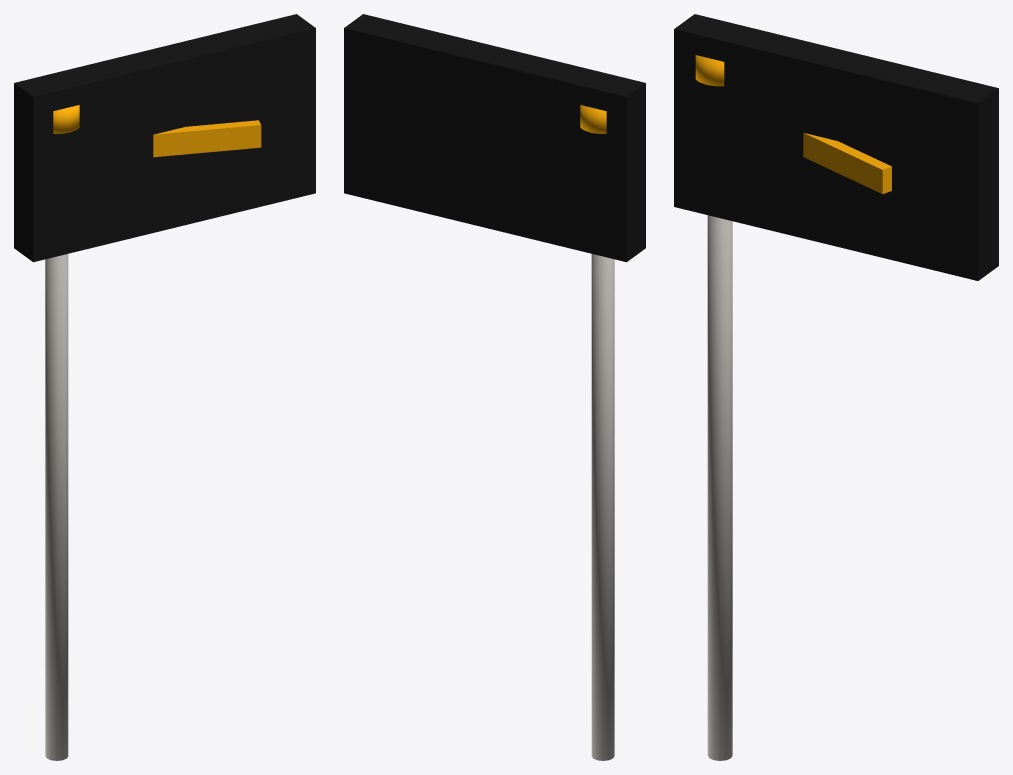
File: prop_flag.glb
3 renders of one model, left to right at view 1: azimuth 30°, elevation 25°; view 2: azimuth 150°, elevation 25°; view 3: azimuth 330°, elevation 25°, orthographic. The views are drawn at different scales.
Parts seen in each view (by area): view 1: black flag panel, flag pole, flag yellow slash, flag top bead; view 2: black flag panel, flag pole, flag top bead; view 3: black flag panel, flag pole, flag yellow slash, flag top bead.
Part boxes in pixels (x1,y1,x2,y2): black flag panel: (14, 14, 315, 262); flag pole: (45, 254, 68, 760); flag yellow slash: (153, 120, 261, 157); flag top bead: (53, 105, 79, 133); black flag panel: (344, 14, 645, 262); flag pole: (591, 254, 614, 760); flag top bead: (580, 105, 606, 133); black flag panel: (674, 14, 998, 280); flag pole: (707, 215, 732, 760); flag yellow slash: (803, 133, 891, 194); flag top bead: (695, 55, 724, 86).
Bounding box in the file's own units: 0.34 × 0.775 × 0.0815.
